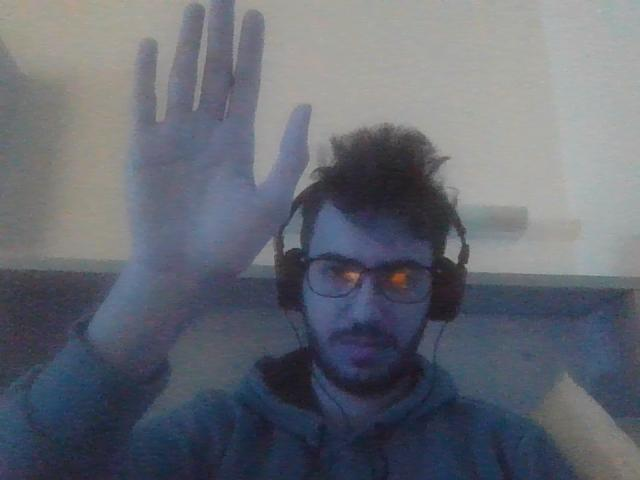Hello: (104, 2, 314, 286)
